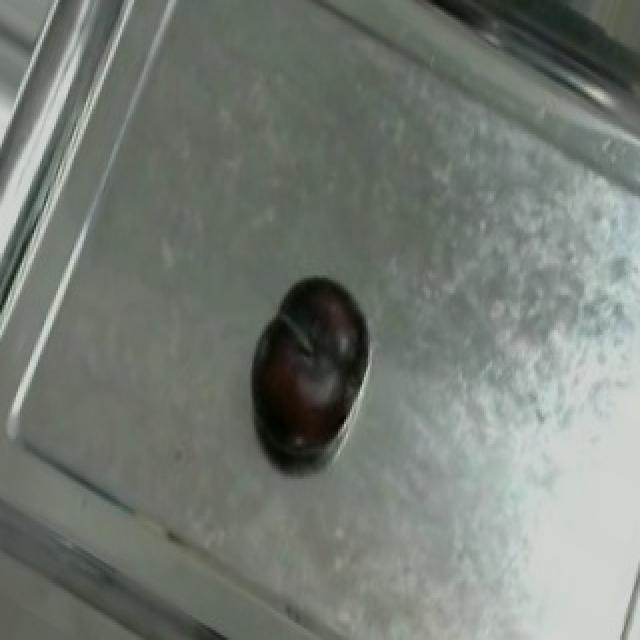Fruit: (232, 256, 380, 472)
